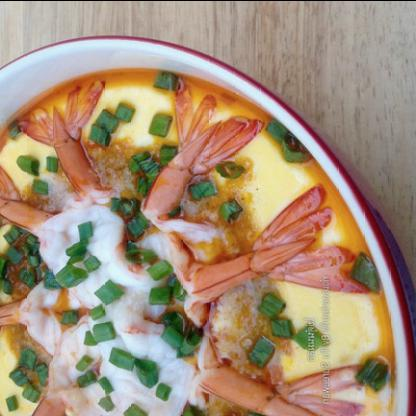Kaithoon: (2, 61, 404, 415)
